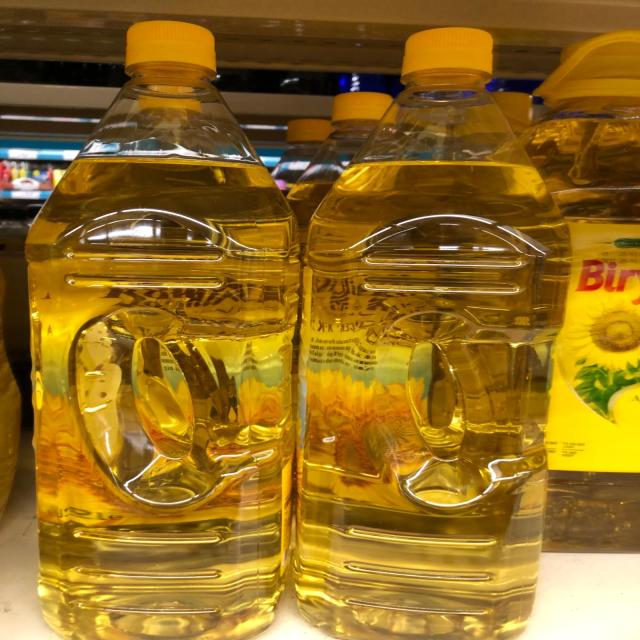olive oil: (9, 9, 296, 640), (294, 8, 574, 640)
